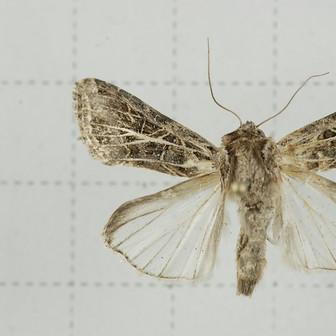Spodoptera litura: (73, 37, 336, 299)
